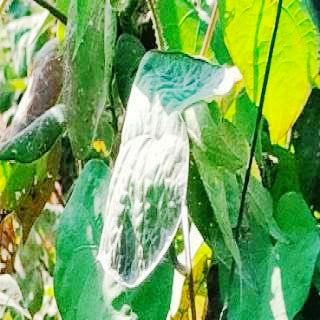curl: (94, 35, 255, 290)
